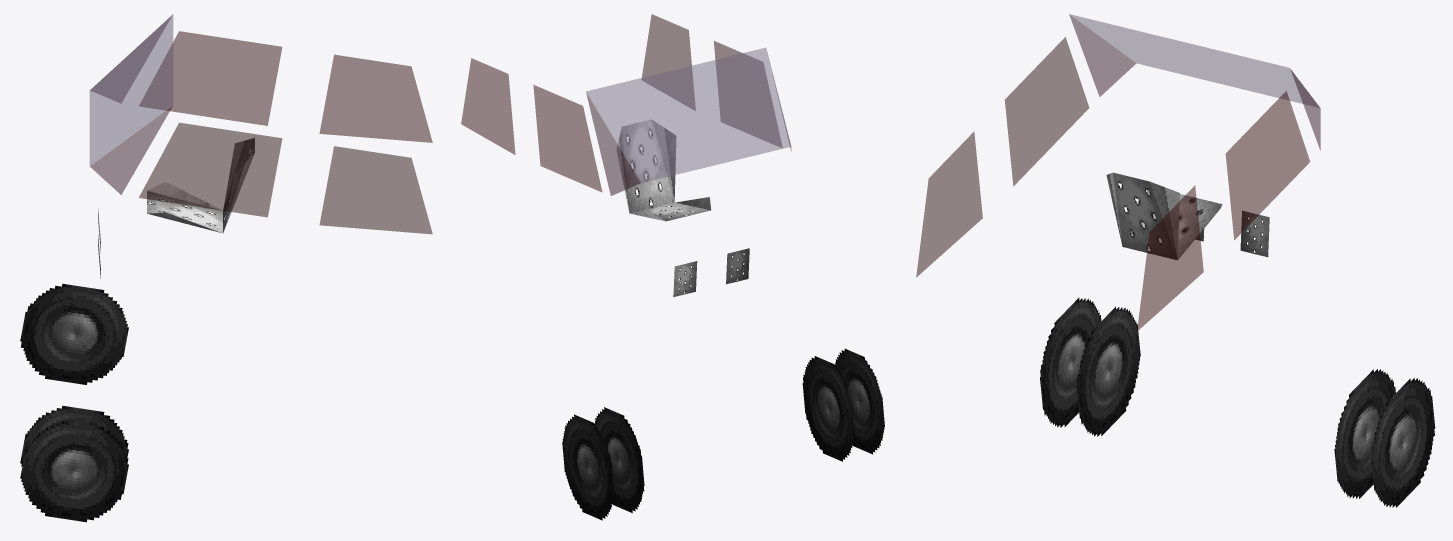
The model's file is secondary_30.glb.
3 renders of one model, left to right at view 1: azimuth 30°, elevation 25°; view 2: azimuth 150°, elevation 25°; view 3: azimuth 270°, elevation 25°, orthographic. The views are drawn at different scales.
Visible parts, largest first — view 1: Object; view 2: Object; view 3: Object.
Boxes of the visible parts, bbox=[...] form: Object: bbox=[20, 14, 432, 522]; Object: bbox=[461, 14, 884, 520]; Object: bbox=[916, 14, 1435, 507].
Bounding box in the file's own units: 2.88 × 2.54 × 2.56.
9 materials, 9 textured.
